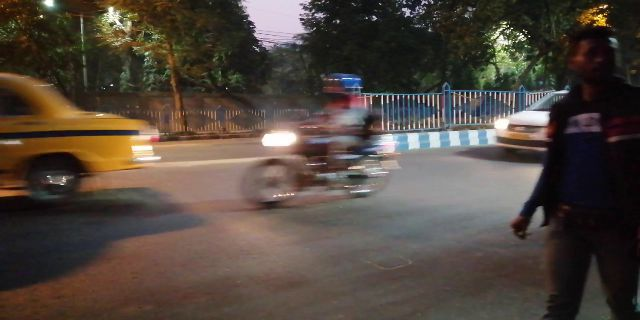Motorbike: (230, 76, 411, 205)
